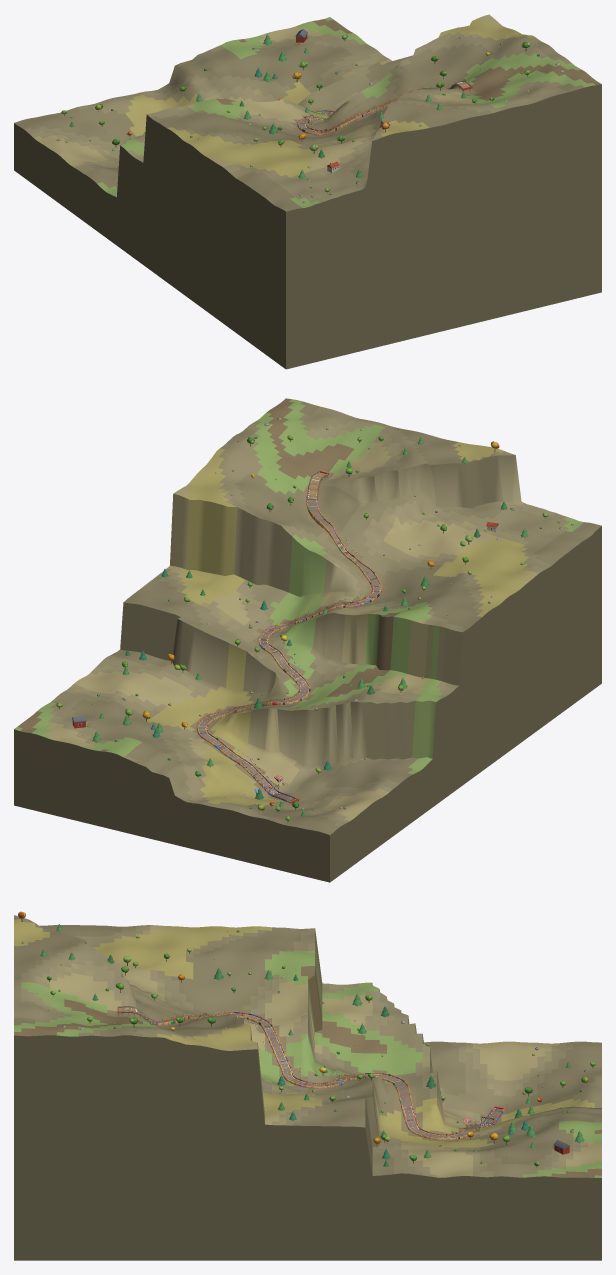
3 renders of one model, top to bottom at view 1: azimuth 30°, elevation 25°; view 2: azimuth 150°, elevation 25°; view 3: azimuth 270°, elevation 25°, orthographic. The views are drawn at different scales.
Visible parts, largest first — view 1: grass, hay, pines, leafy trees; view 2: grass, road, hay, pines, leafy trees; view 3: grass, hay, road, pines, leafy trees.
Boxes of the visible parts, x1,y1,x2,y2 form: grass: (14, 14, 601, 369); hay: (297, 81, 472, 135); pines: (69, 34, 466, 178); leafy trees: (61, 34, 530, 191); grass: (14, 398, 601, 882); road: (198, 472, 380, 801); hay: (196, 471, 381, 803); pines: (92, 437, 527, 816); leafy trees: (56, 435, 547, 820); grass: (14, 915, 601, 1260); hay: (117, 1006, 505, 1140); road: (118, 1007, 502, 1138); pines: (40, 924, 584, 1166); leafy trees: (47, 948, 595, 1166).
Size of the model in its own units: 275 by 182 by 410.
